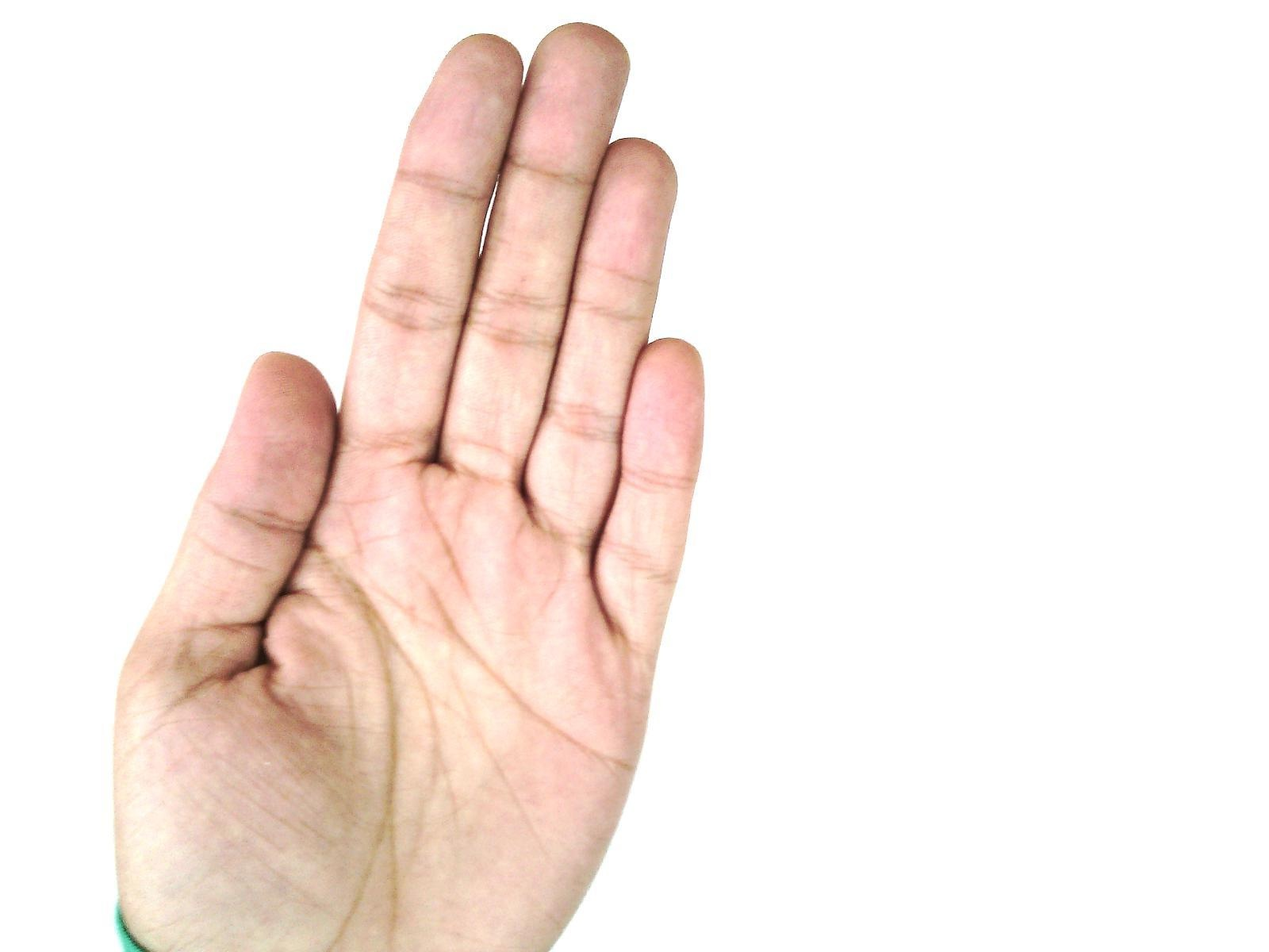open_palm: (109, 21, 709, 951)
